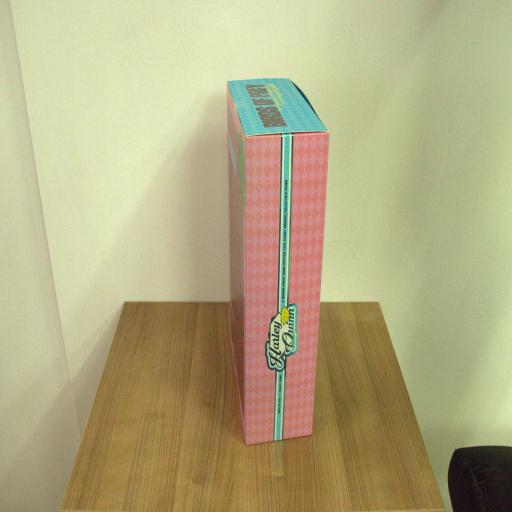Harley: (227, 76, 329, 444)
